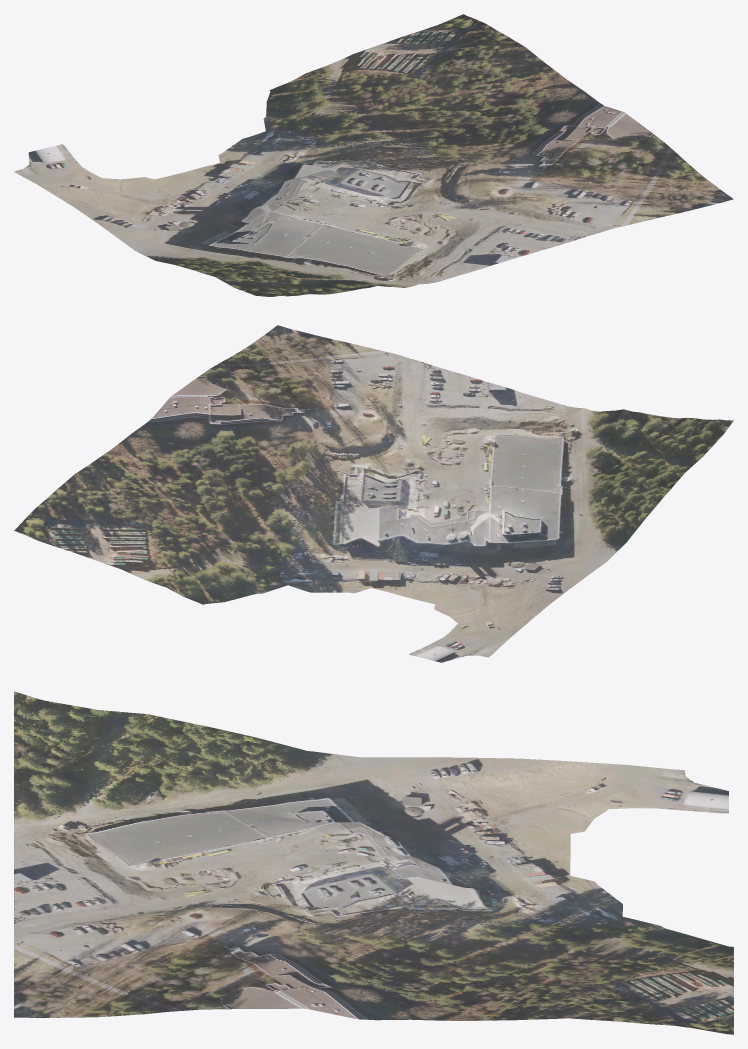
The model's file is CM_Terrain_24489434_6822660.fbx.
3 views of the same model, one above another, from view 1: azimuth 30°, elevation 25°; view 2: azimuth 150°, elevation 25°; view 3: azimuth 270°, elevation 25° (orthographic). The views are drawn at different scales.
Parts seen in each view (by area): view 1: CM_Terrain_24489434_6822660_LOD0; view 2: CM_Terrain_24489434_6822660_LOD0; view 3: CM_Terrain_24489434_6822660_LOD0.
Boxes of the visible parts, x1,y1,x2,y2 form: CM_Terrain_24489434_6822660_LOD0: [14, 14, 733, 296]; CM_Terrain_24489434_6822660_LOD0: [14, 325, 733, 662]; CM_Terrain_24489434_6822660_LOD0: [14, 691, 733, 1034].
Size of what is drawn, in the model's own units: 205 by 25.18 by 205.
